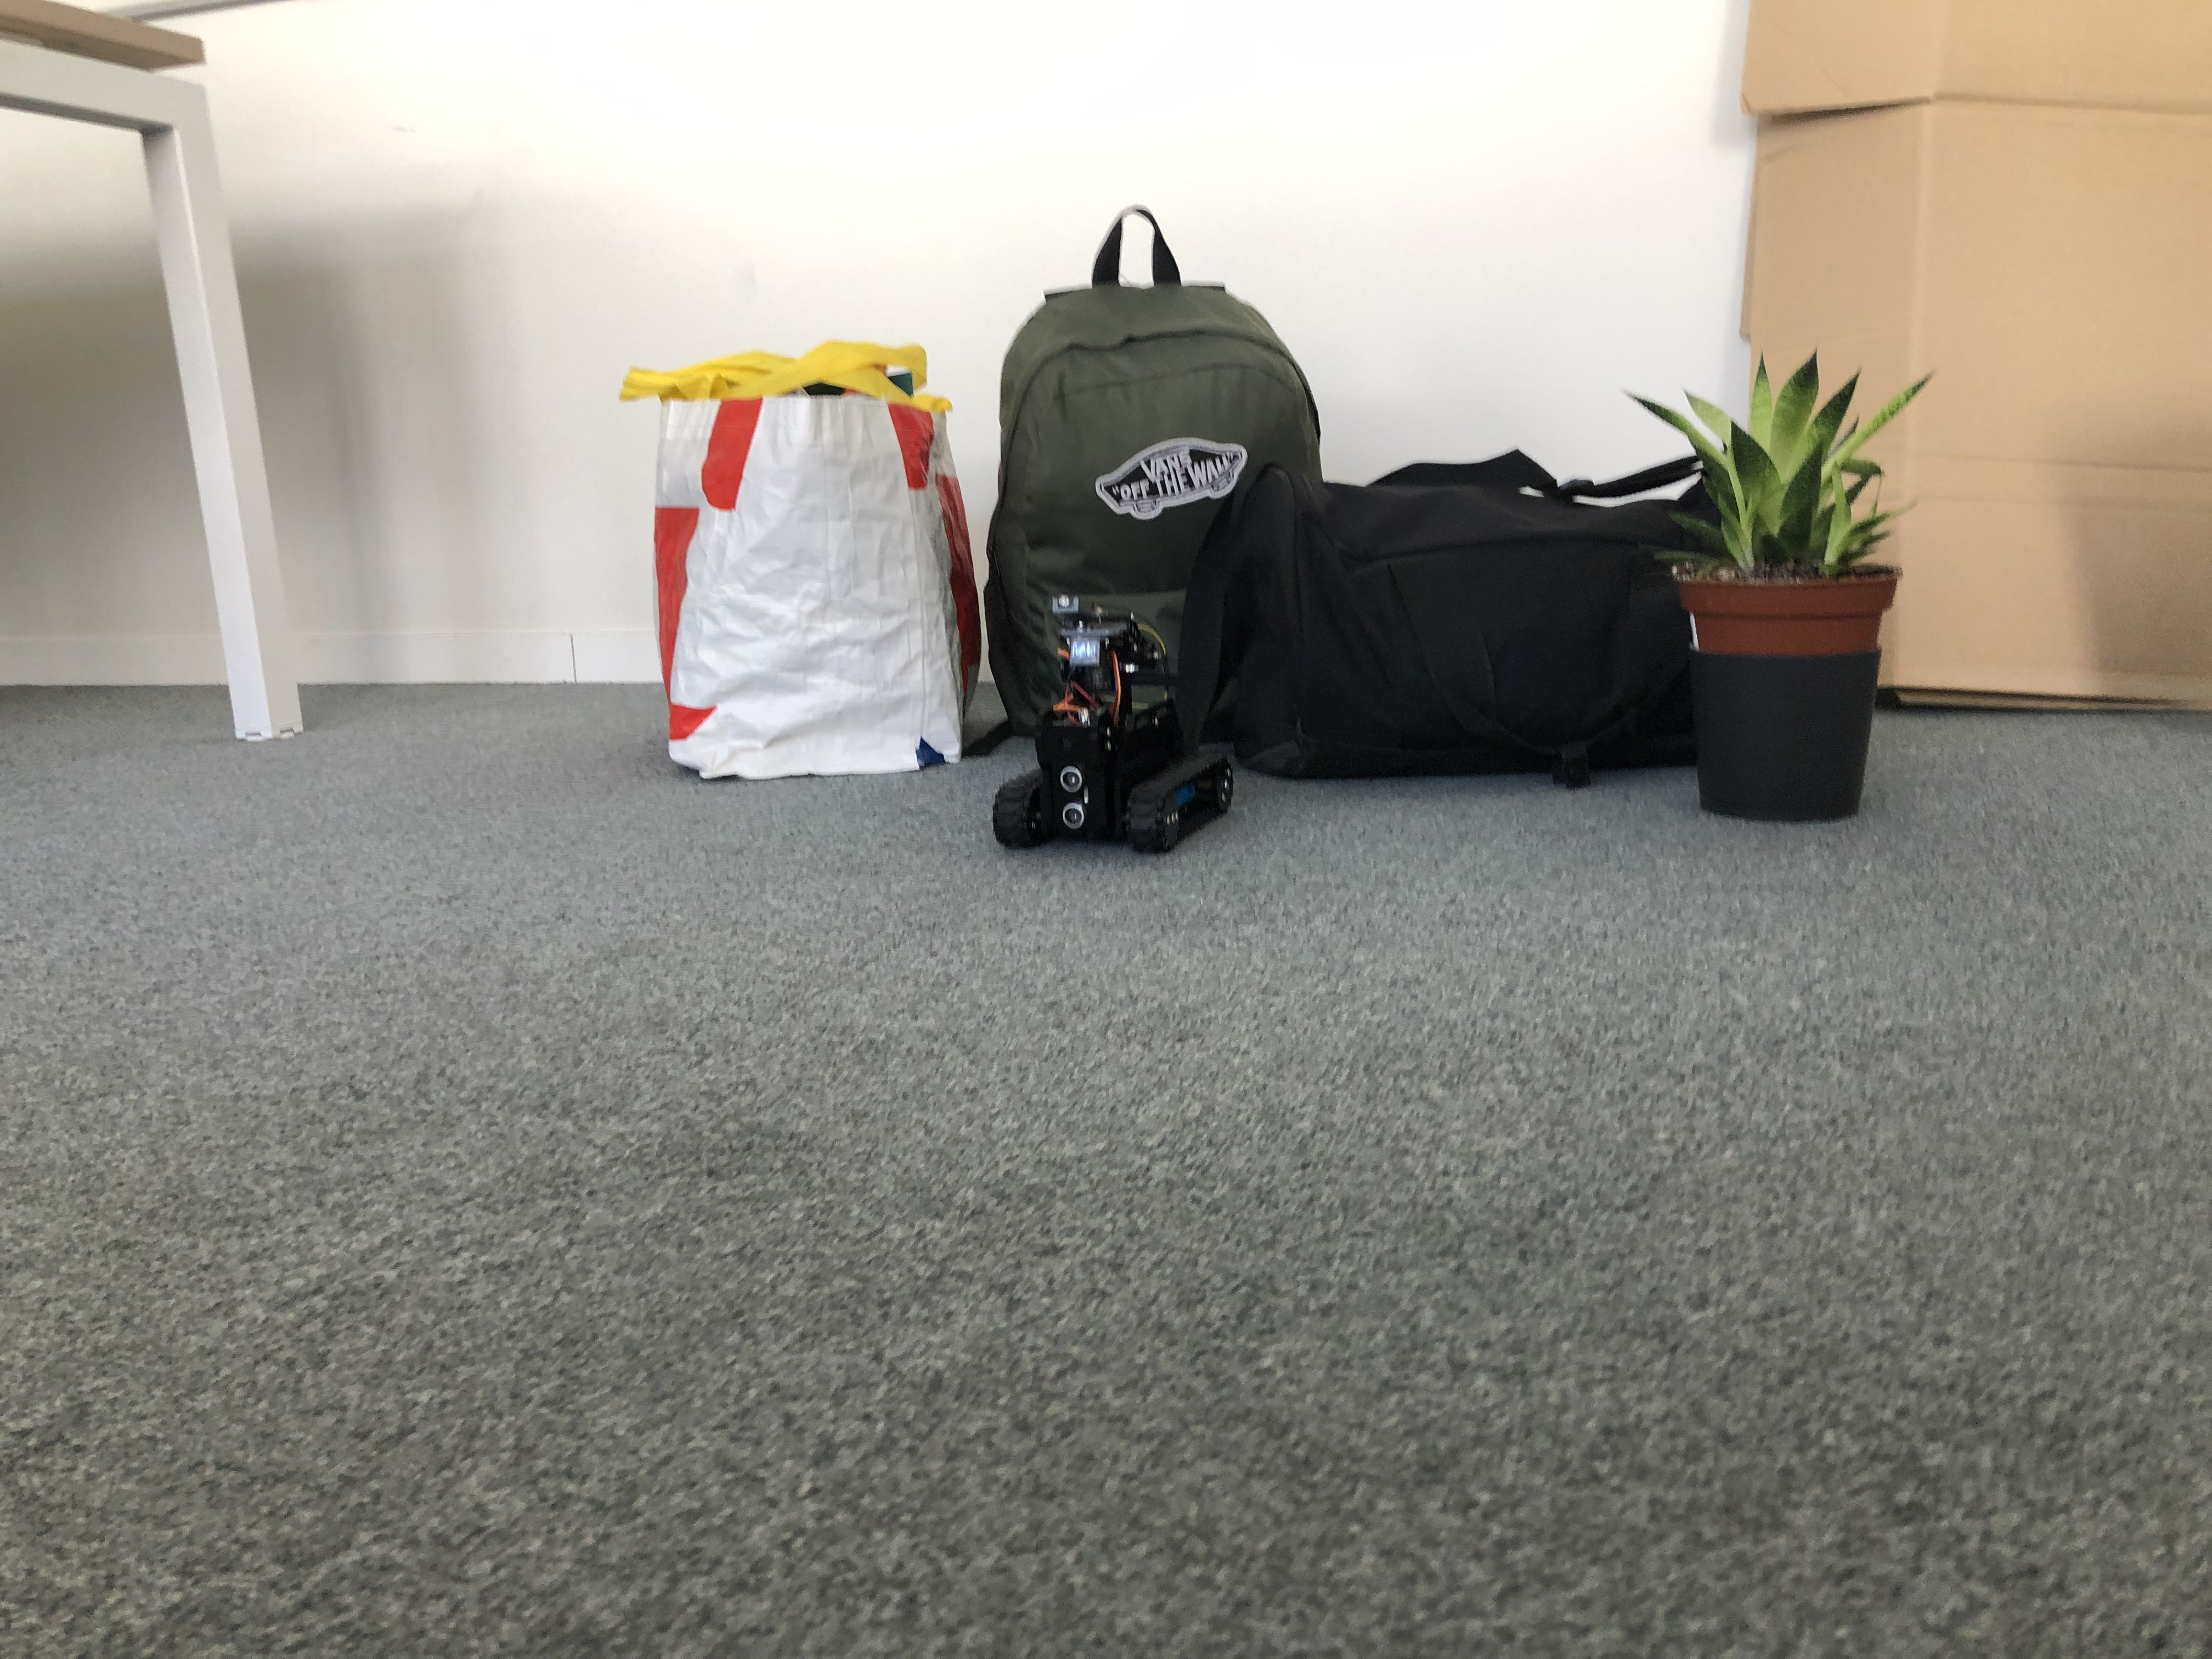rasptank: (988, 591, 1244, 857)
